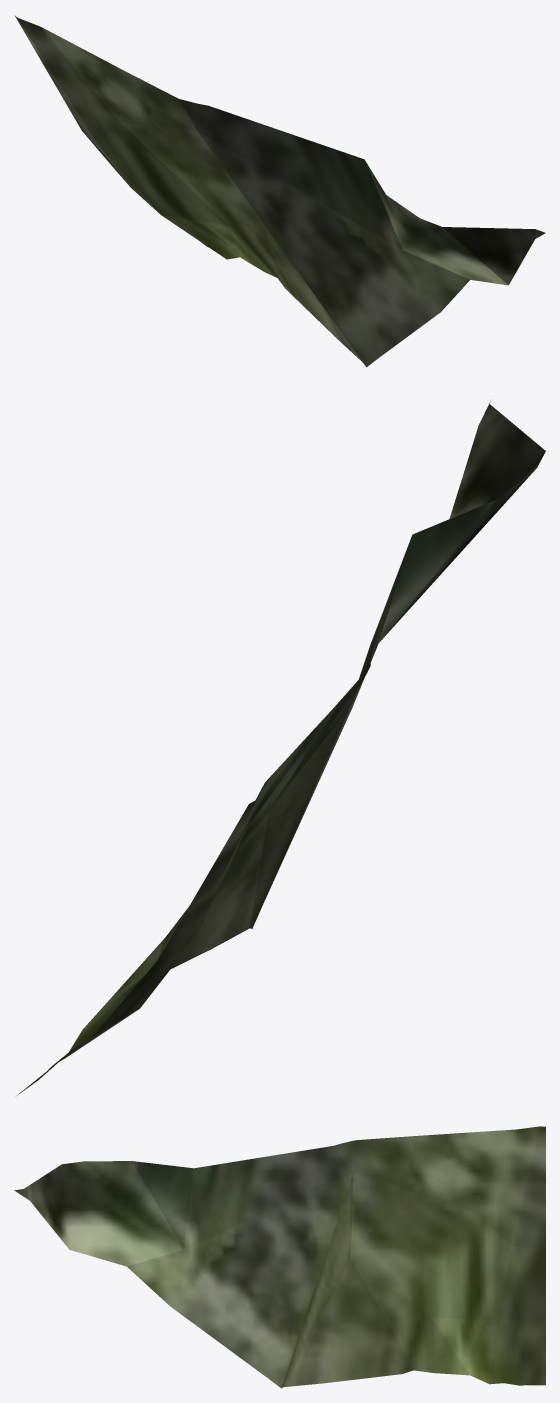
3 renders of one model, top to bottom at view 1: azimuth 30°, elevation 25°; view 2: azimuth 150°, elevation 25°; view 3: azimuth 270°, elevation 25°, orthographic. The views are drawn at different scales.
Size of the model in its own units: 0.3805 by 0.5498 by 1.34.
Materials: 1 (1 with a texture image).
